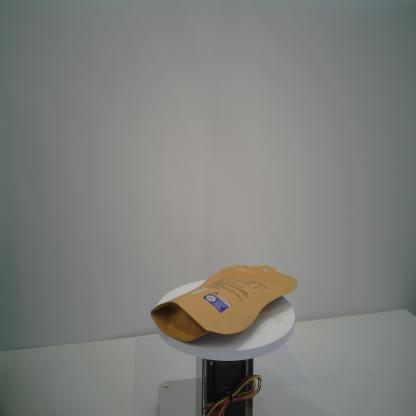Dried Fruit: (150, 263, 300, 343)
